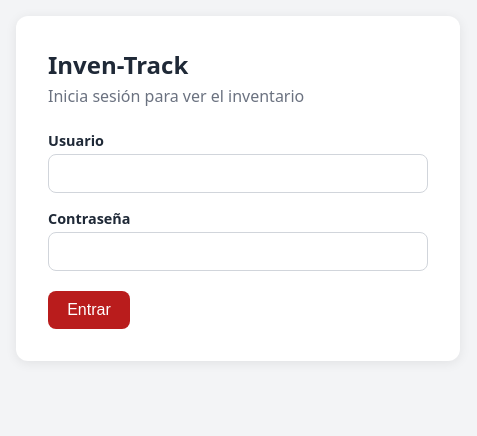
Test: App › valida campos vacíos sin llamar al backend
Click the button "Entrar": (89, 310) top-left (48, 291), bottom-right (130, 329)
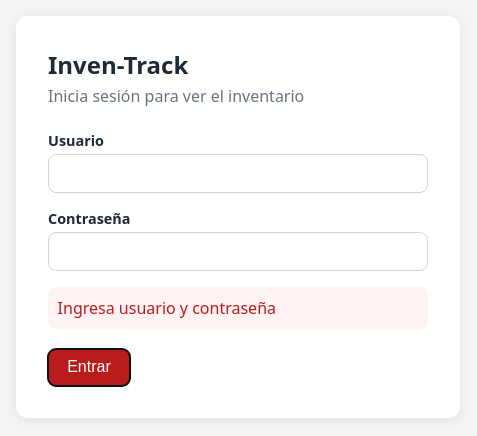
Expected: the message reads "Ingresa usuario y contraseña", top-left (58, 297), bottom-right (276, 319)
